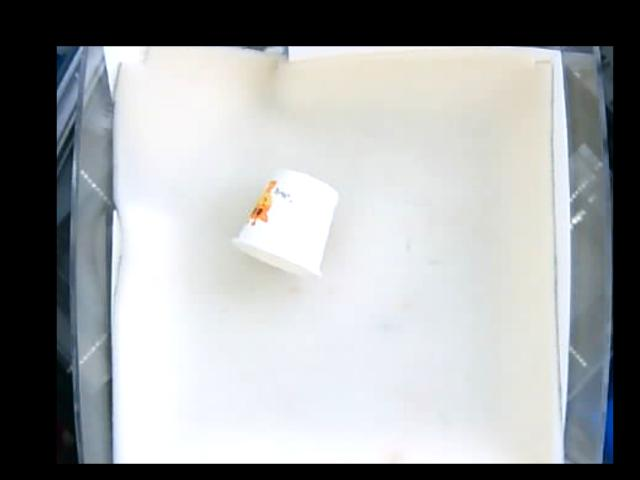Cup: (234, 168, 335, 272)
